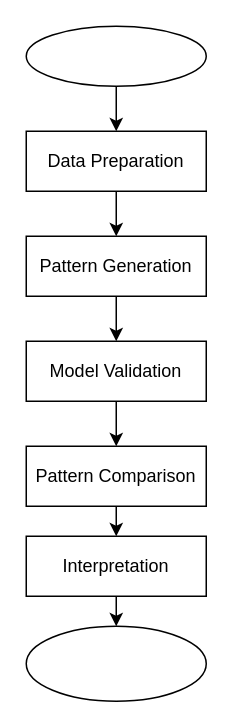
Some shapes in this 233 by 728 pixel diagram are drawn without their labels. Each missing label, with the centre of its shape:
End: point (115, 663)
Start: point (115, 55)
